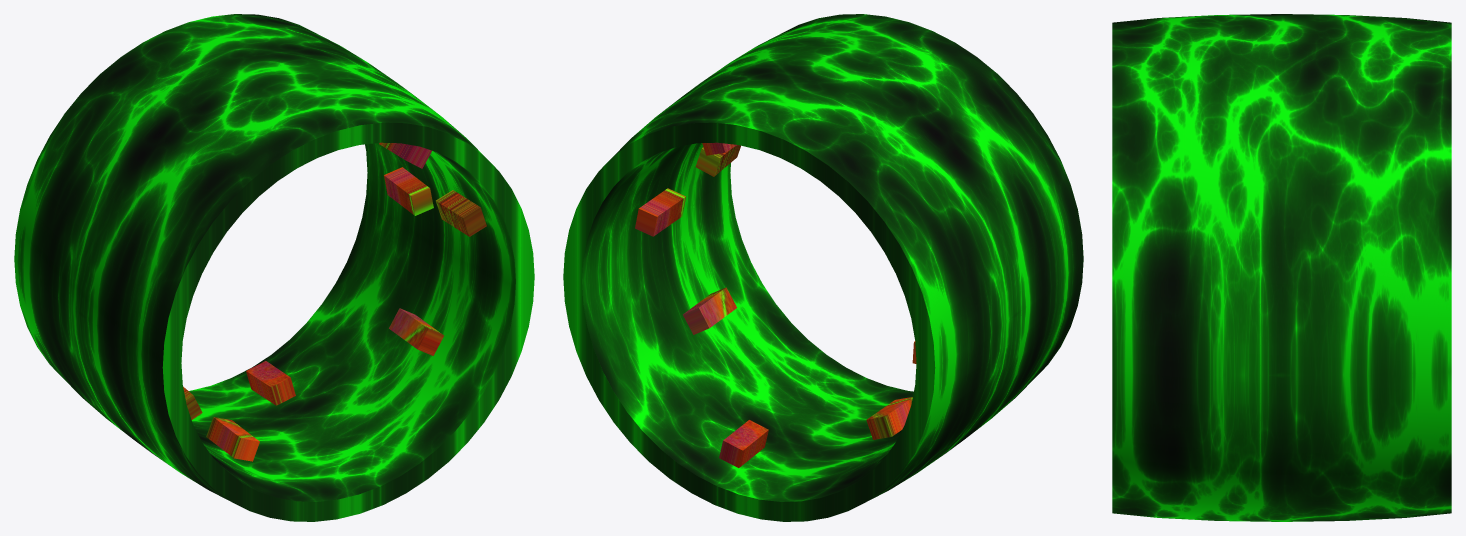
File: RunnerTunnel2.fbx
3 views of the same model, side by side, from view 1: azimuth 30°, elevation 25°; view 2: azimuth 150°, elevation 25°; view 3: azimuth 270°, elevation 25° (orthographic). The views are drawn at different scales.
Parts seen in each view (by area): view 1: pTorus1; view 2: pTorus1; view 3: pTorus1.
Boxes of the visible parts, bbox=[...] form: pTorus1: bbox=[14, 14, 534, 521]; pTorus1: bbox=[563, 14, 1083, 521]; pTorus1: bbox=[1112, 14, 1451, 521].
Bounding box in the file's own units: 2.18 × 2.18 × 1.46.
2 materials, 2 textured.
